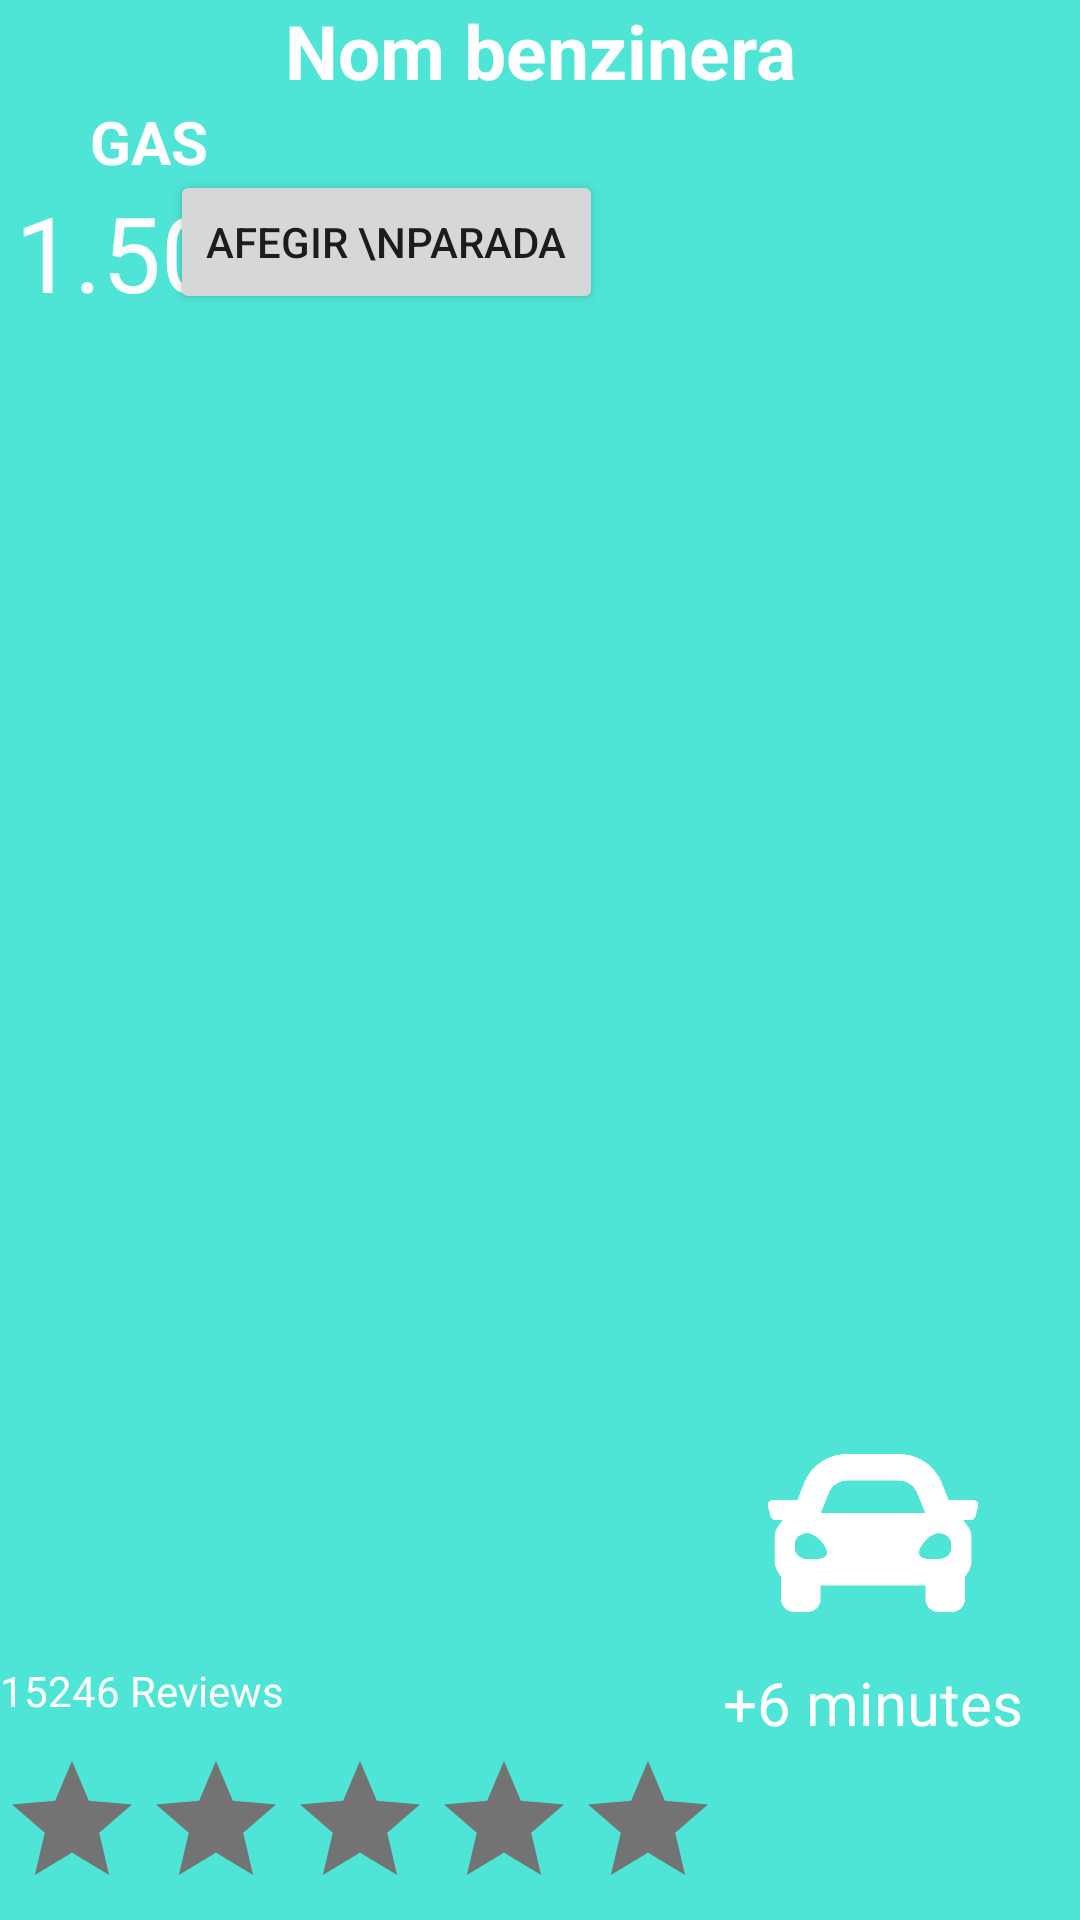

Screen size 1080x1920. Icon name, then its box in pixels as (x1, y1, x2, y2):
car: (768, 1454, 978, 1612)
